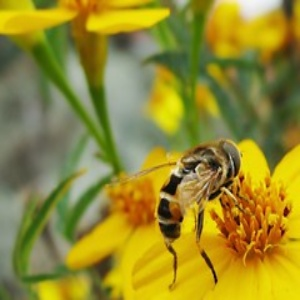bee: (154, 140, 244, 295)
